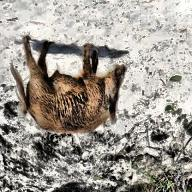boar: (8, 37, 141, 136)
